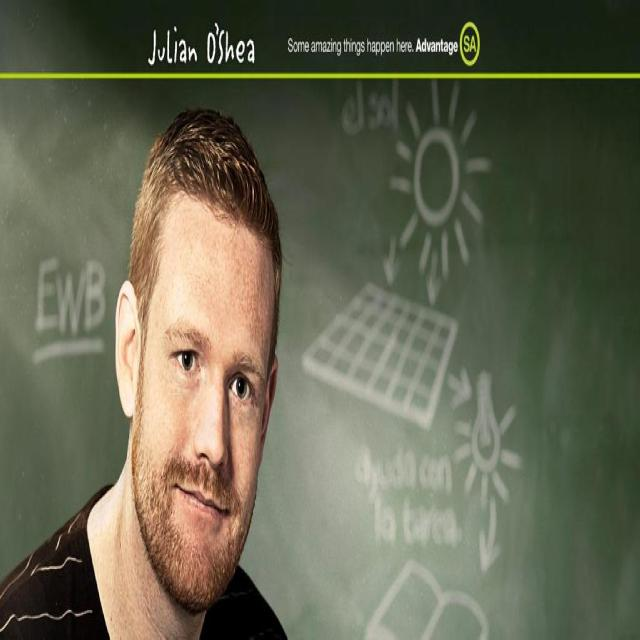Face: (124, 161, 269, 609)
